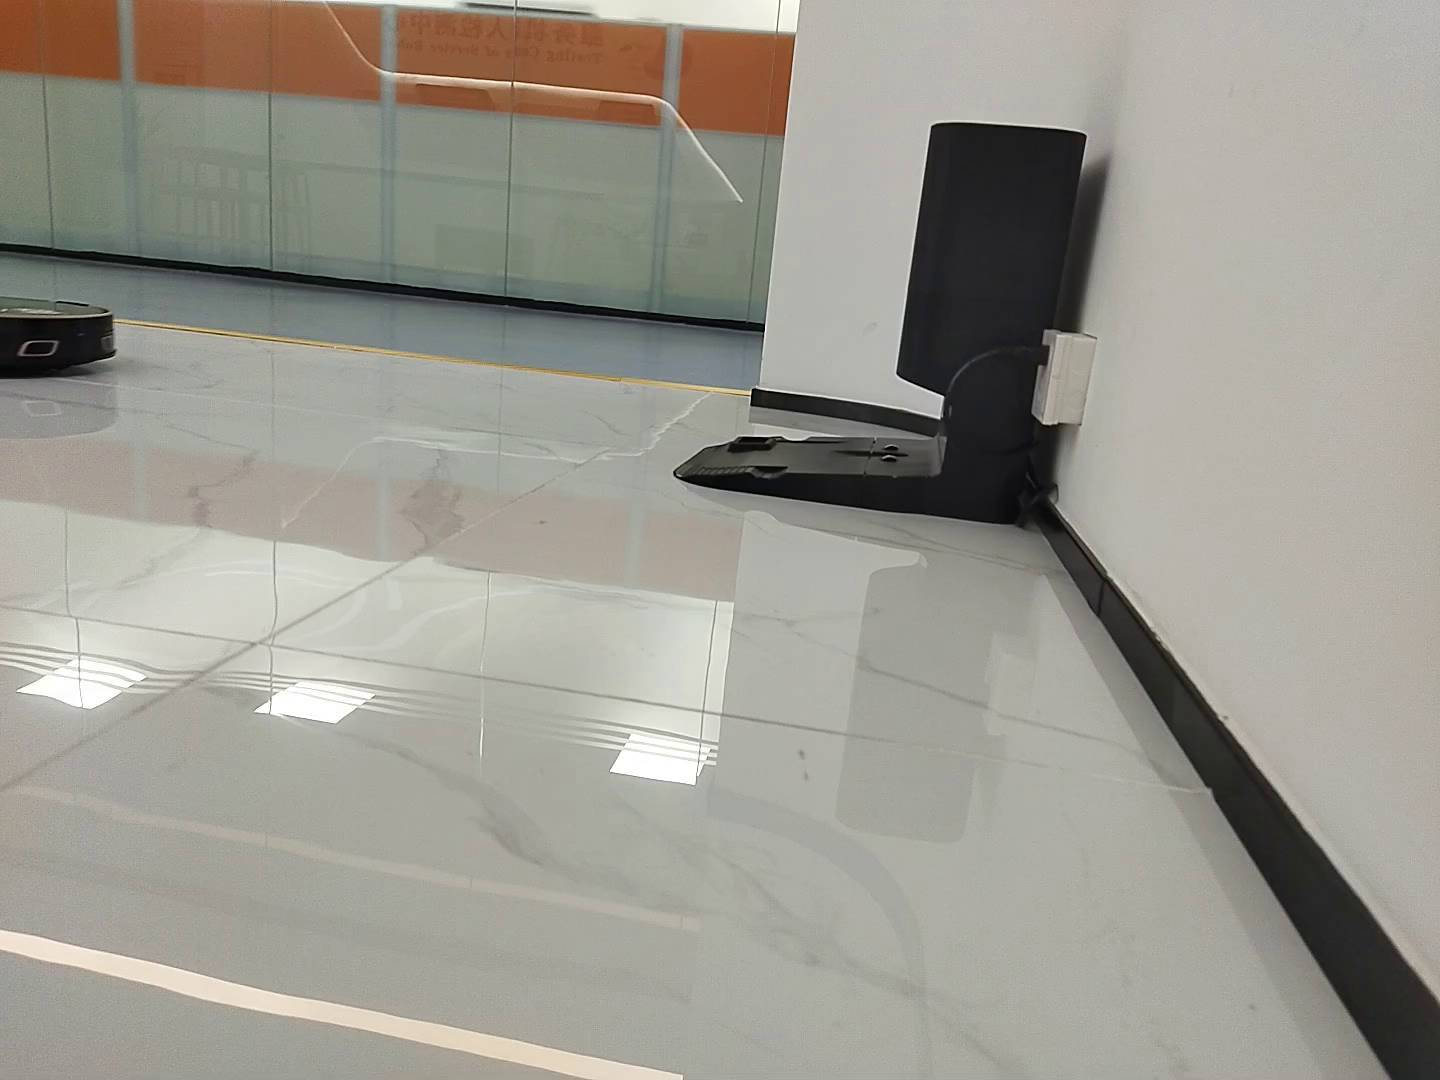dust collecting barrel: (674, 120, 1086, 528)
